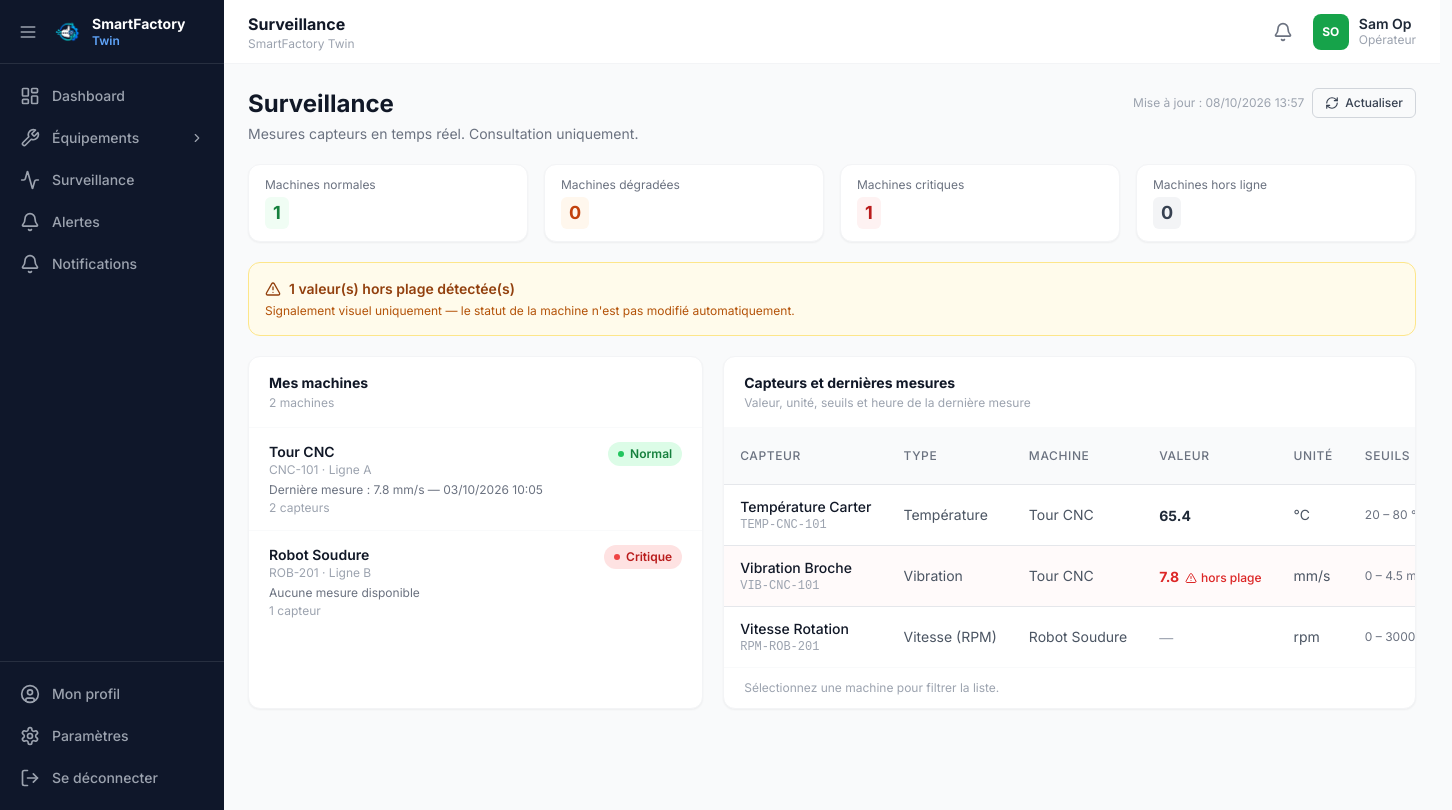
Test case: SurveillancePage — OPERATEUR (consultation) › filtre les capteurs en sélectionnant une machine
Expected: the text "Température Carter" is shown, [740, 497, 872, 517]
Expected: the text "Vitesse Rotation" is shown, [740, 620, 849, 637]
# Sélectionne la machine CNC-101
Click the button "CNC-101": (476, 479) [249, 428, 702, 530]
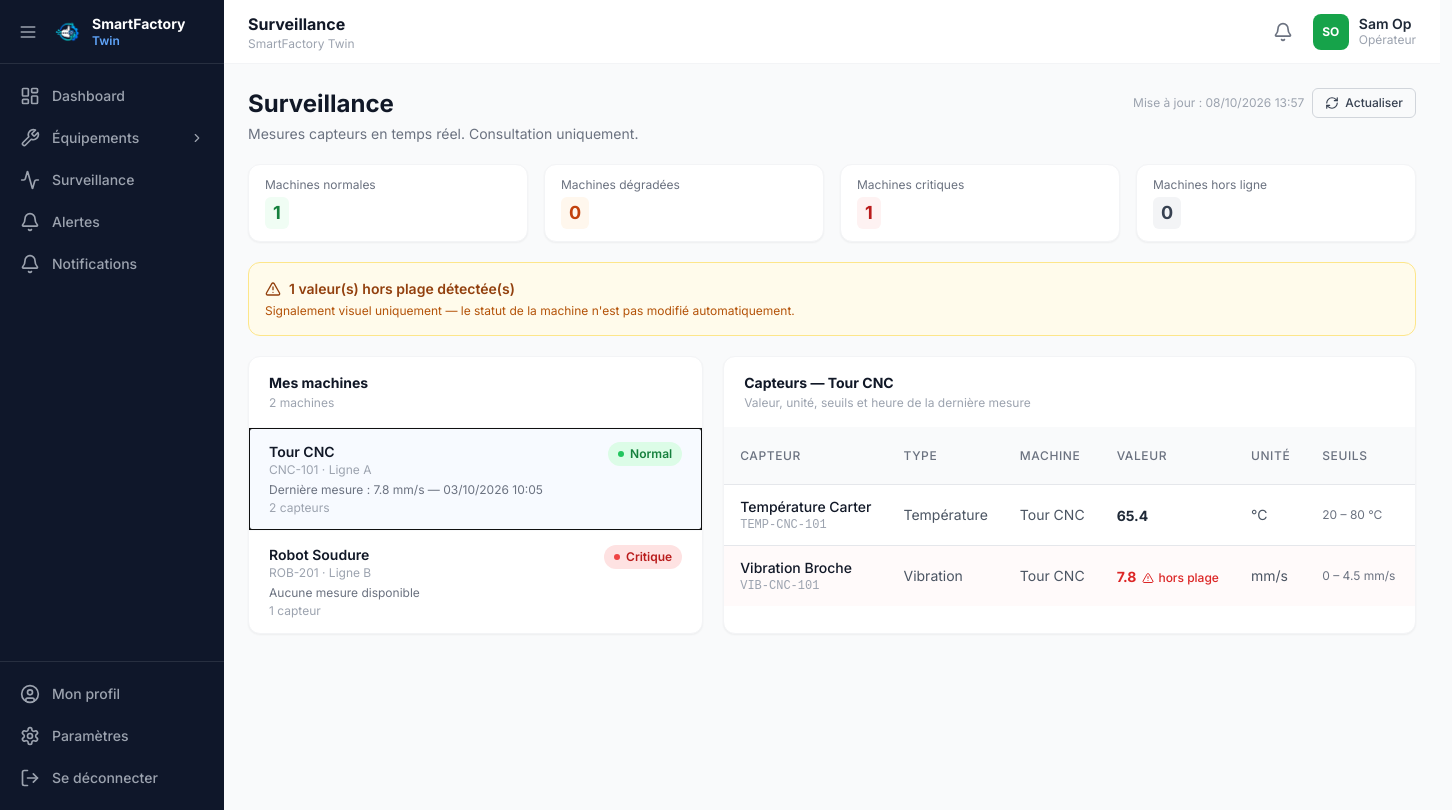
Expected: the text "Température Carter" is shown, [740, 497, 872, 517]
Expected: the text "Vitesse Rotation" is gone
